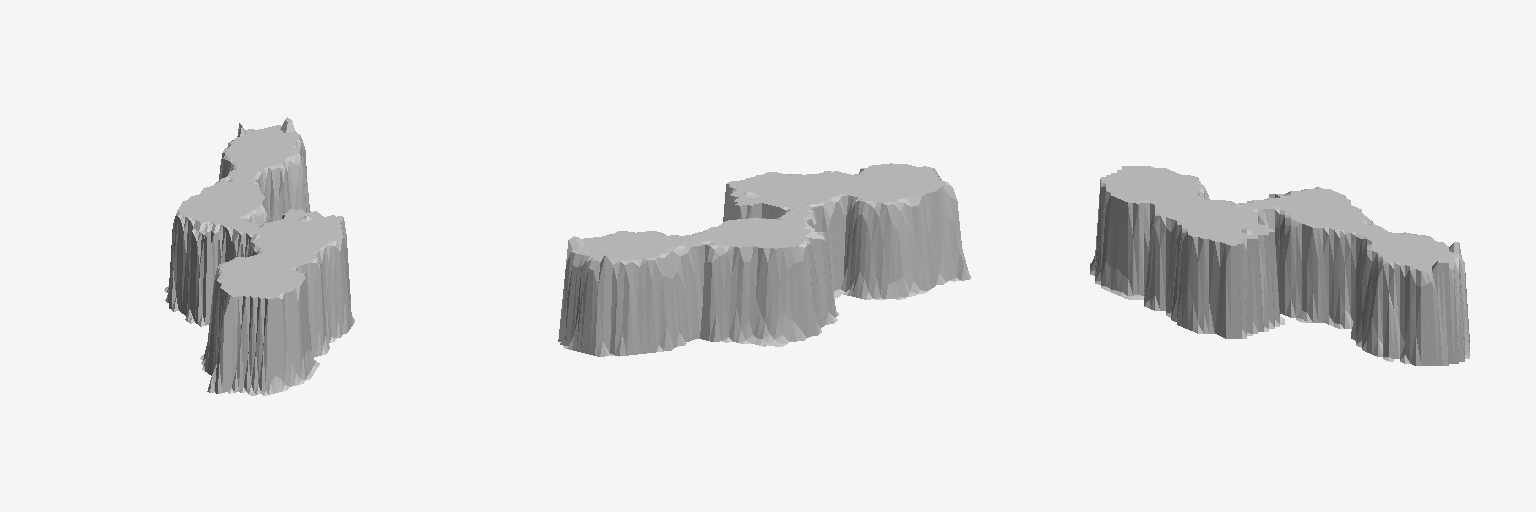
File: Dixialongmu_Terrain_KM2.obj
3 views of the same model, side by side, from view 1: azimuth 30°, elevation 25°; view 2: azimuth 150°, elevation 25°; view 3: azimuth 270°, elevation 25° (orthographic).
Visible parts, largest first — view 1: default; view 2: default; view 3: default.
Part boxes in pixels (x1,y1,x2,y2): default: (164, 117, 354, 395); default: (558, 163, 970, 356); default: (1090, 166, 1469, 365).
Size of the model in its own units: 23.23 by 8.77 by 30.68.